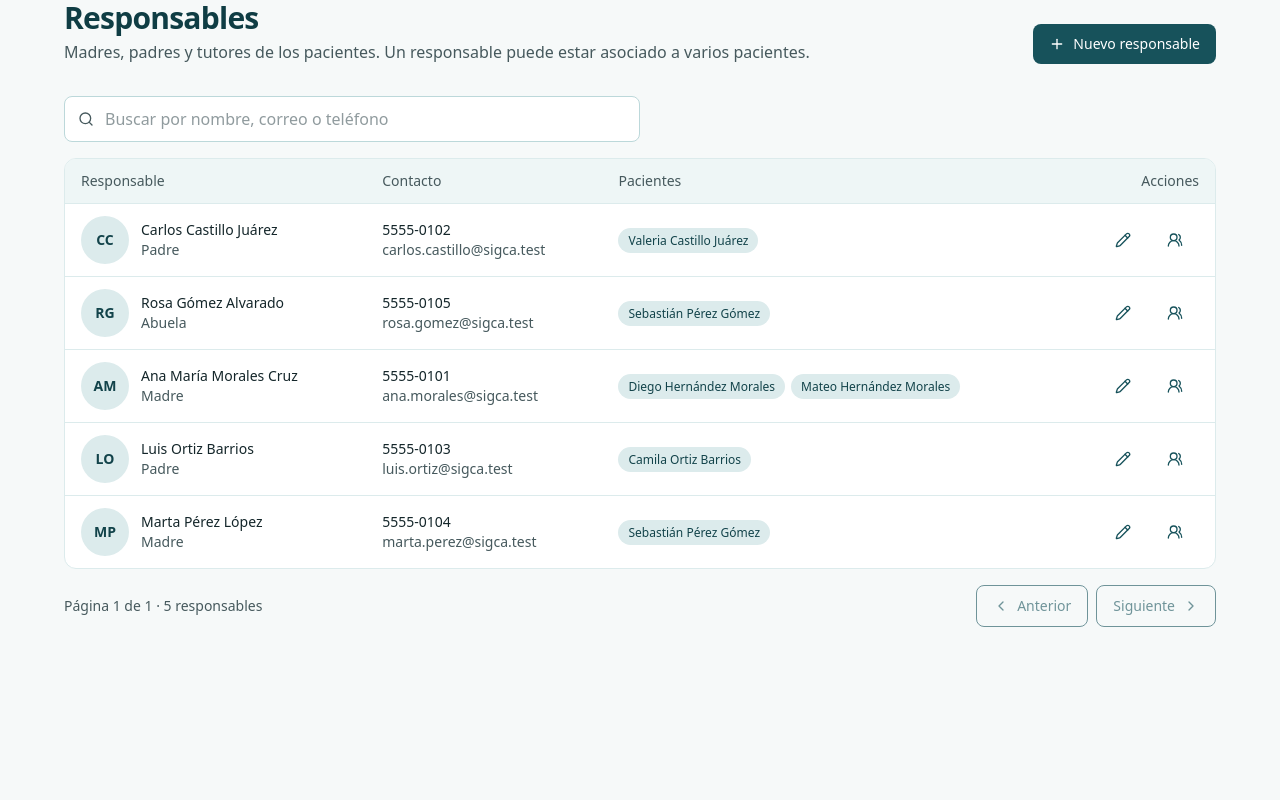
Responsables › editar: carga los datos y envía los cambios
The width and height of the screenshot is (1280, 800).
Click the button named "Editar a Ana María Morales Cruz".
click(1123, 386)  # box [1099,368,1147,404]
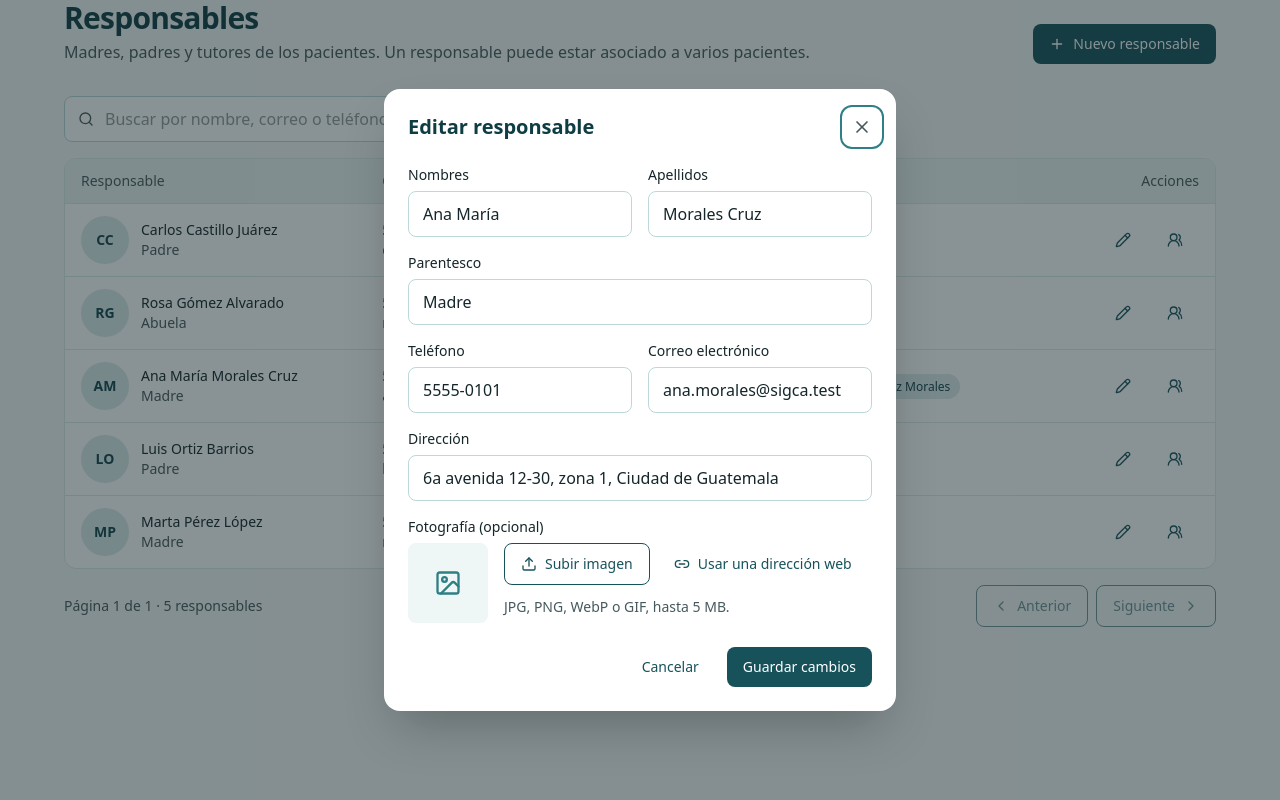
Now the field labelled "Parentesco" holds "Madre", box [408,279,872,325]
Replace the text in the field labelled "Teléfono" with "5555-0000" at [520, 390], box [408,367,632,413]
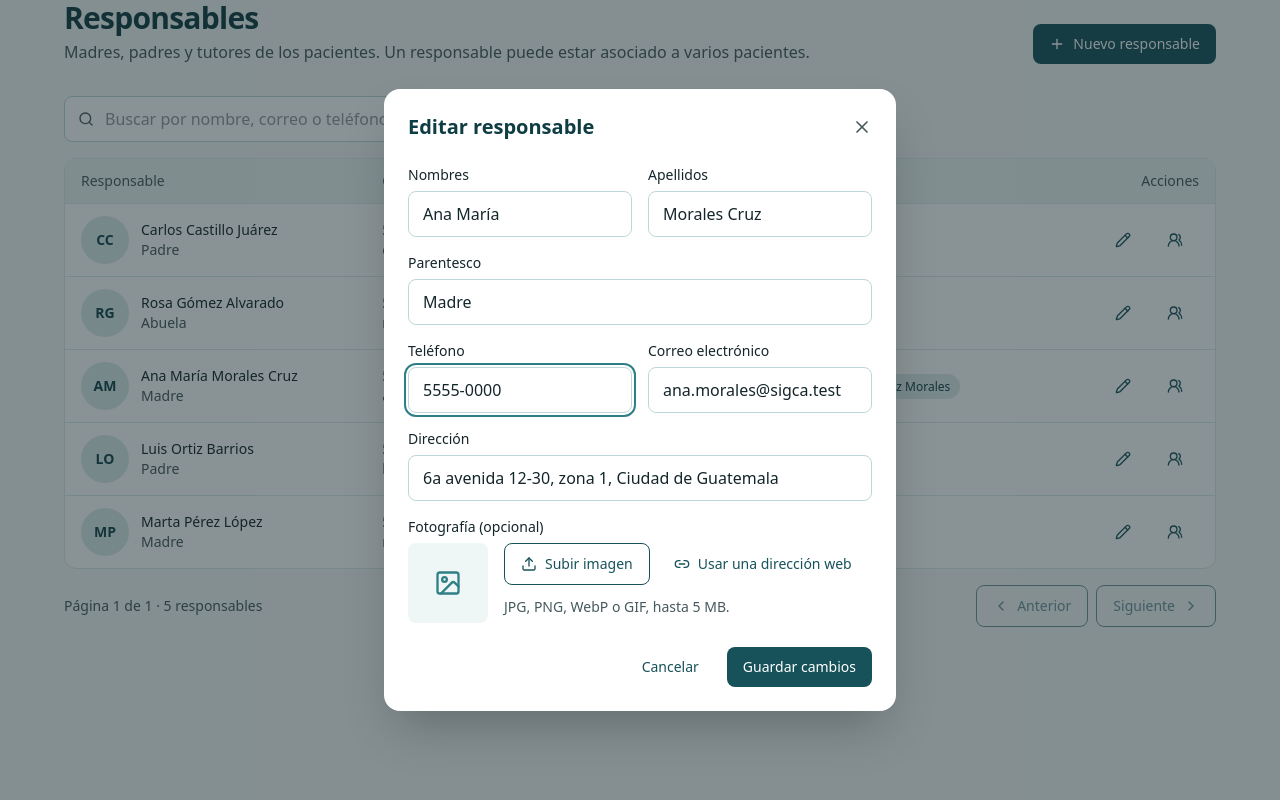
Click the button "Guardar cambios".
click(799, 667)  # box [727,647,872,687]
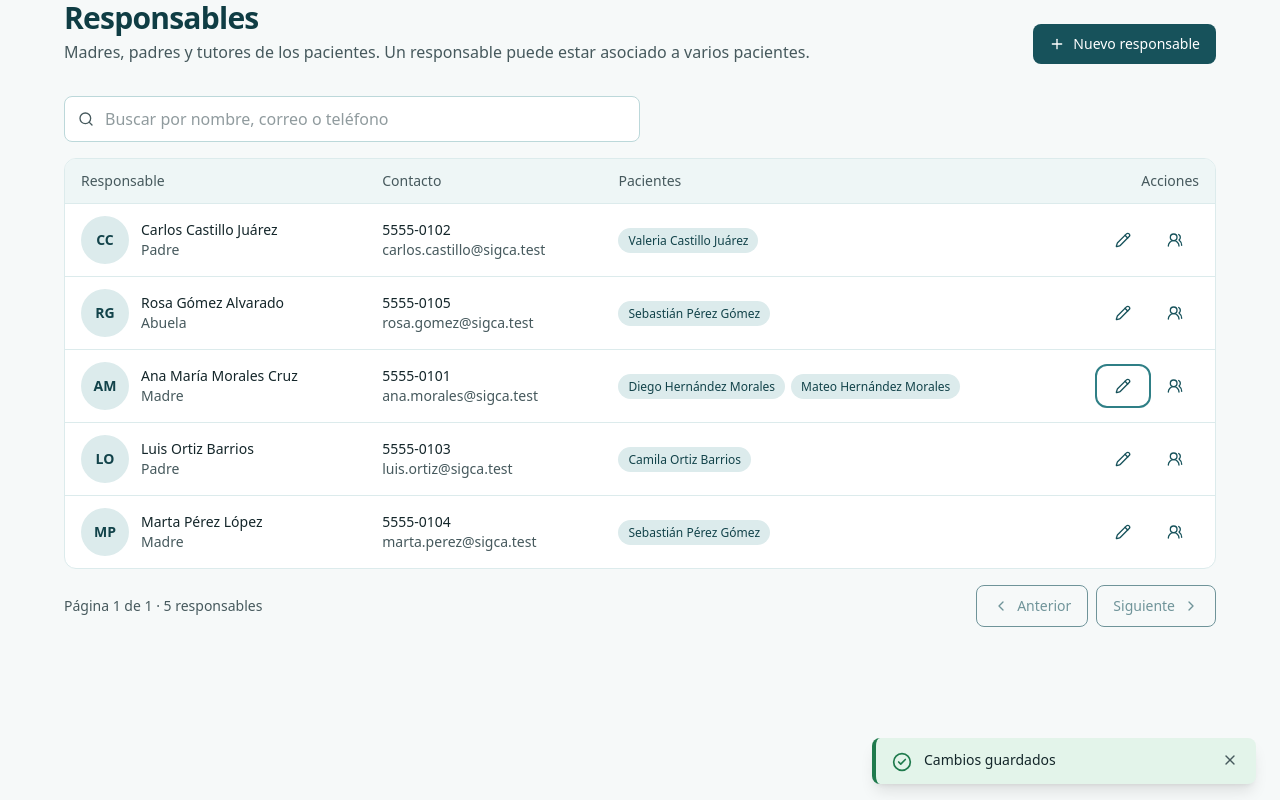
Now the text "Cambios guardados" is shown, box [924,750,1056,769]
